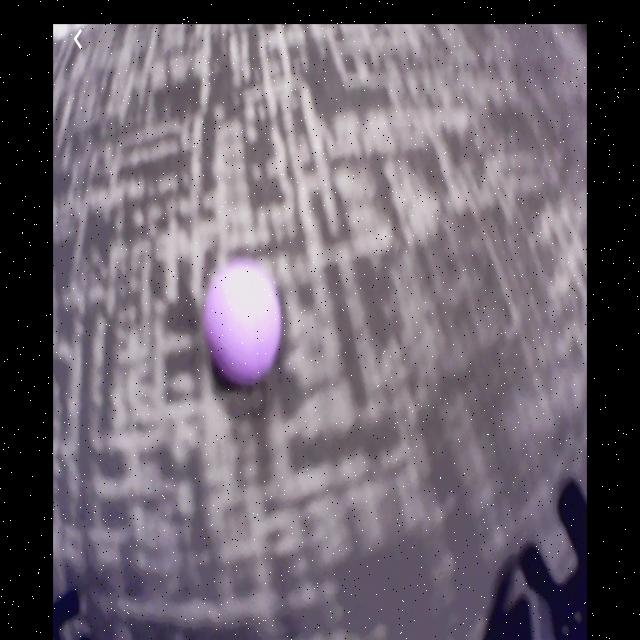ball: (206, 260, 281, 382)
